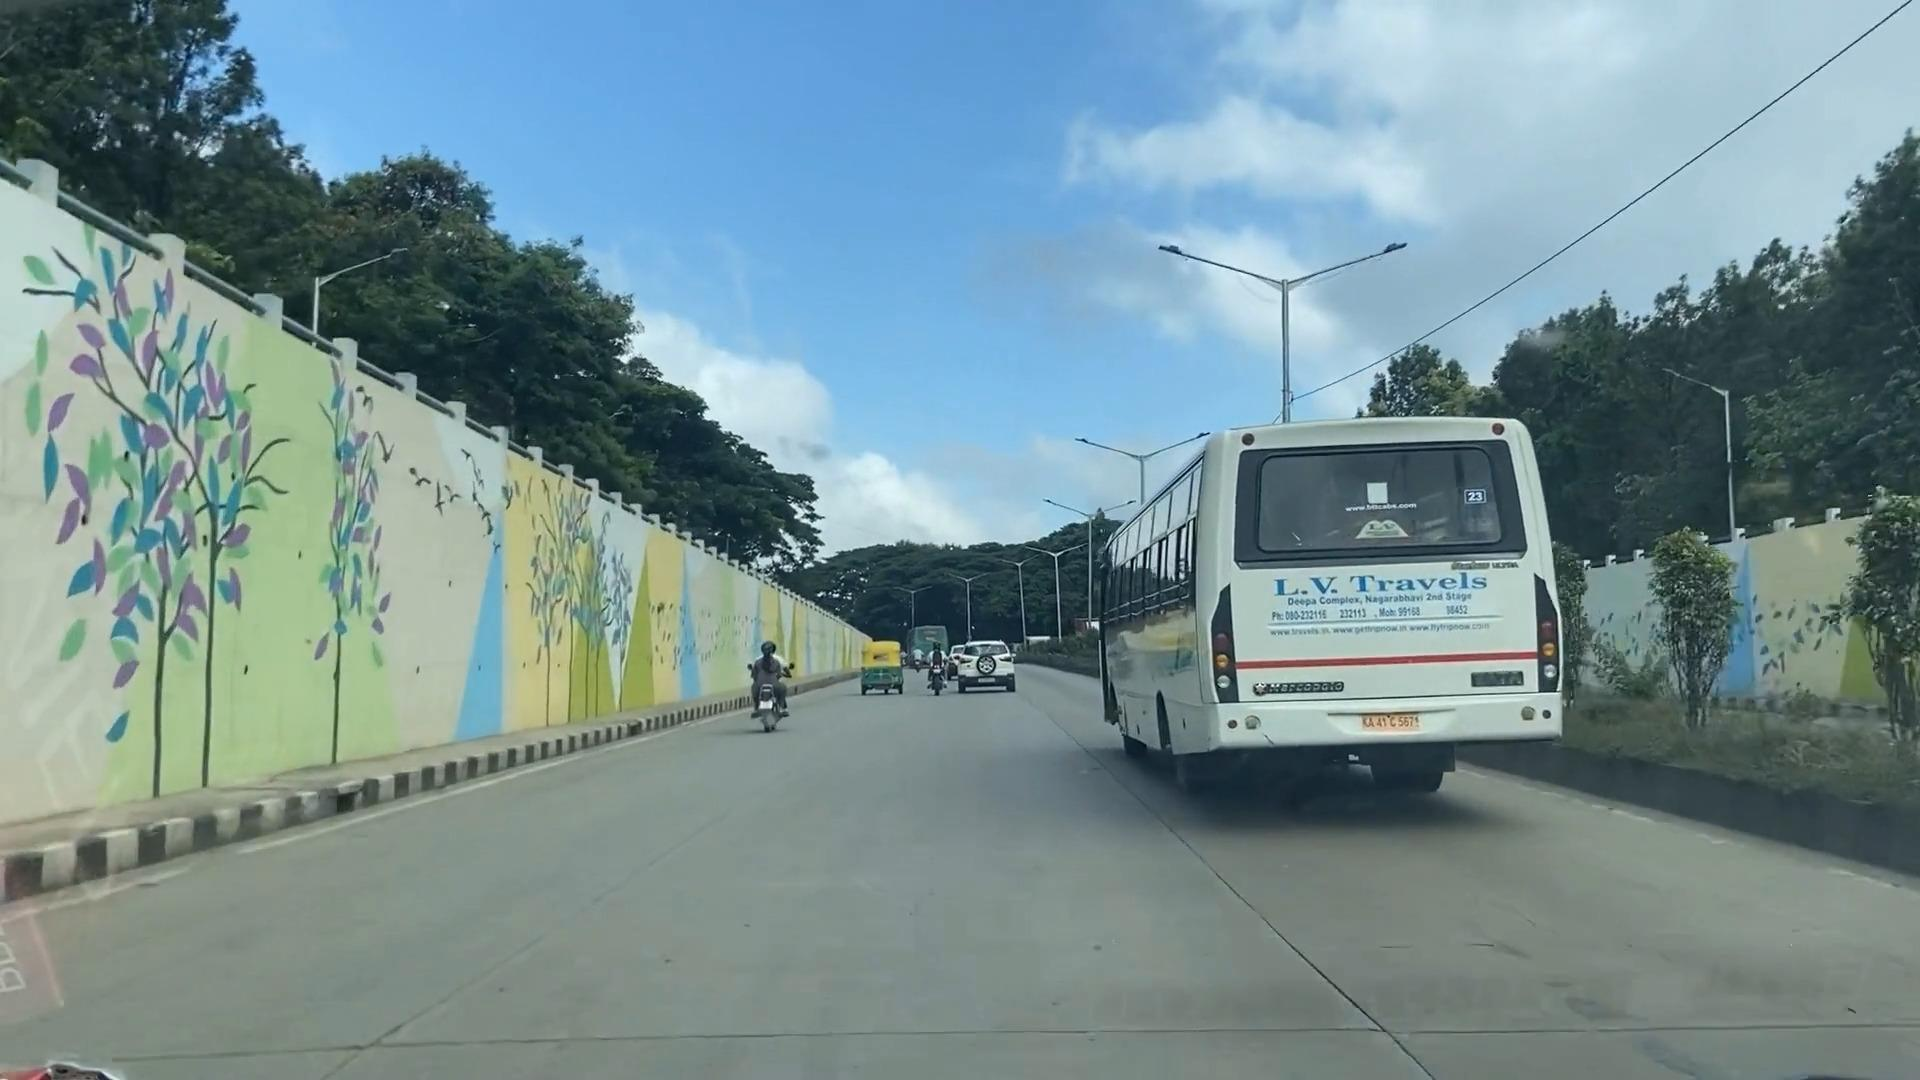HMV: (1092, 425, 1545, 790)
LMV: (756, 632, 790, 732)
